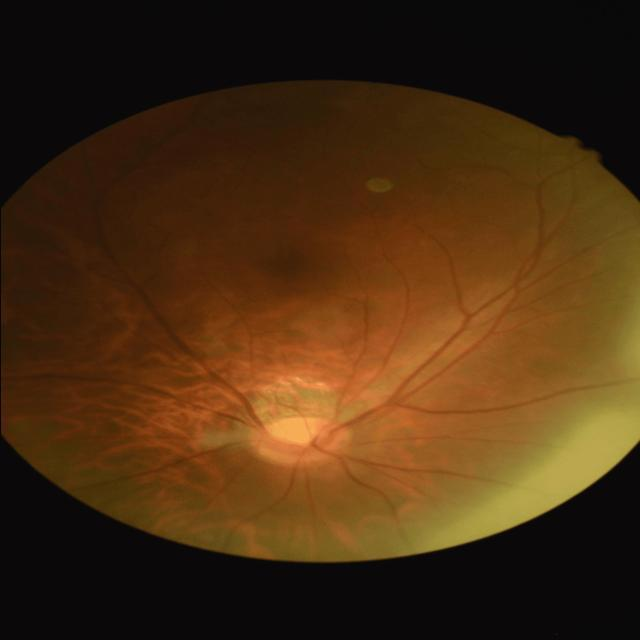cup: (266, 426, 329, 454)
disk: (256, 416, 350, 468)
